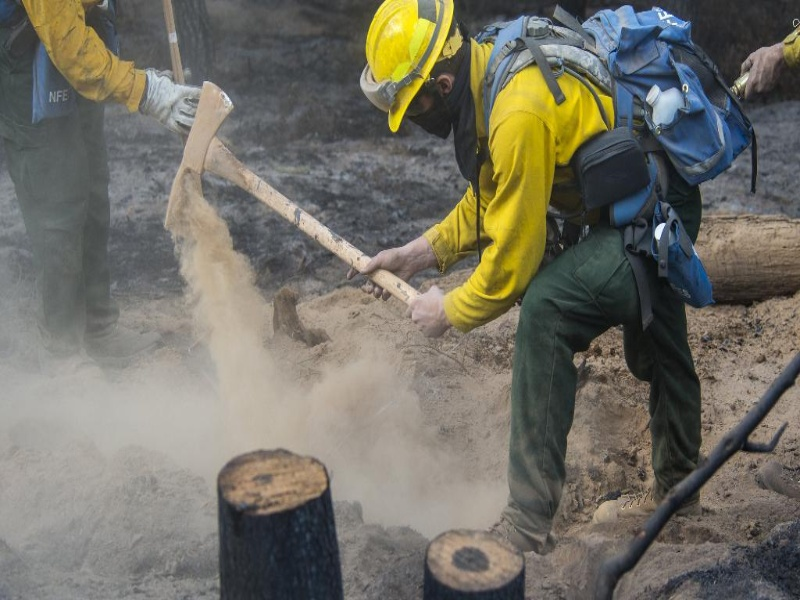Baret: (356, 1, 451, 135)
